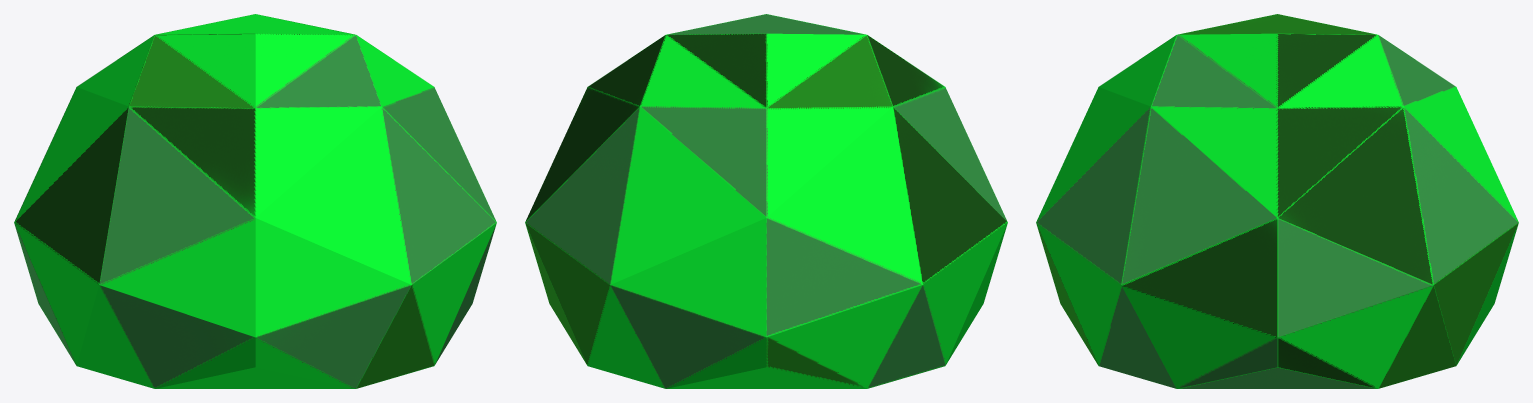
The model's file is Bush.FBX.
3 views of the same model, side by side, from view 1: azimuth 30°, elevation 25°; view 2: azimuth 150°, elevation 25°; view 3: azimuth 270°, elevation 25° (orthographic).
Parts seen in each view (by area): view 1: Bush; view 2: Bush; view 3: Bush.
Part boxes in pixels (x1=…): Bush: x1=14, y1=14, x2=496, y2=388; Bush: x1=525, y1=14, x2=1007, y2=388; Bush: x1=1036, y1=14, x2=1518, y2=388.
Bounding box in the file's own units: 269 × 179 × 270.
Materials: 1 (1 with a texture image).
